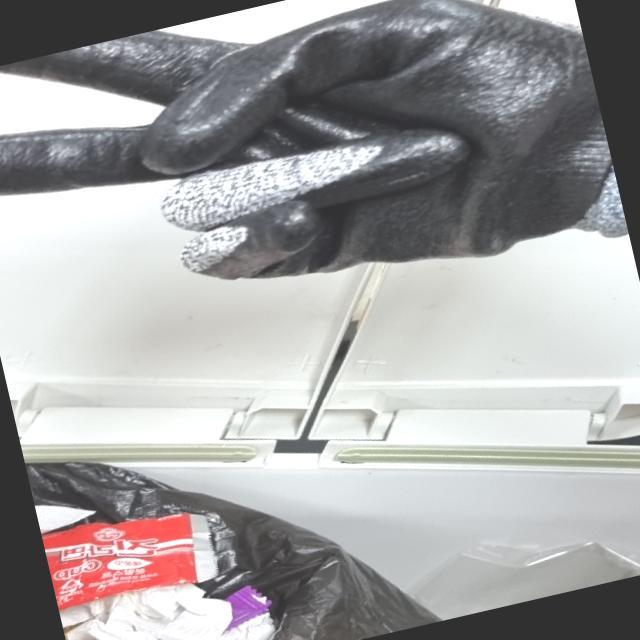Gloves: (0, 0, 636, 285)
